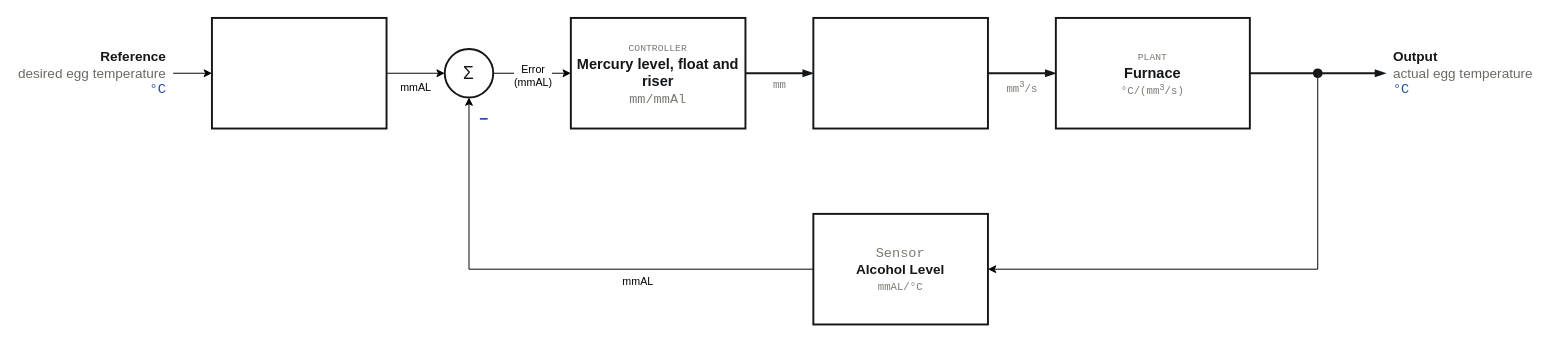
This 1567x341 diagram has some shape labels left out. The shapes that lost their labels are listed below. From the top down, each one's centre as x and y in pixels, then its label:
At pixel 298 72: "Filter Desired Alcohol Level °C/mmAL".
At pixel 900 72: "ACTUATOR Damper (mm 3 /s)/mm".
